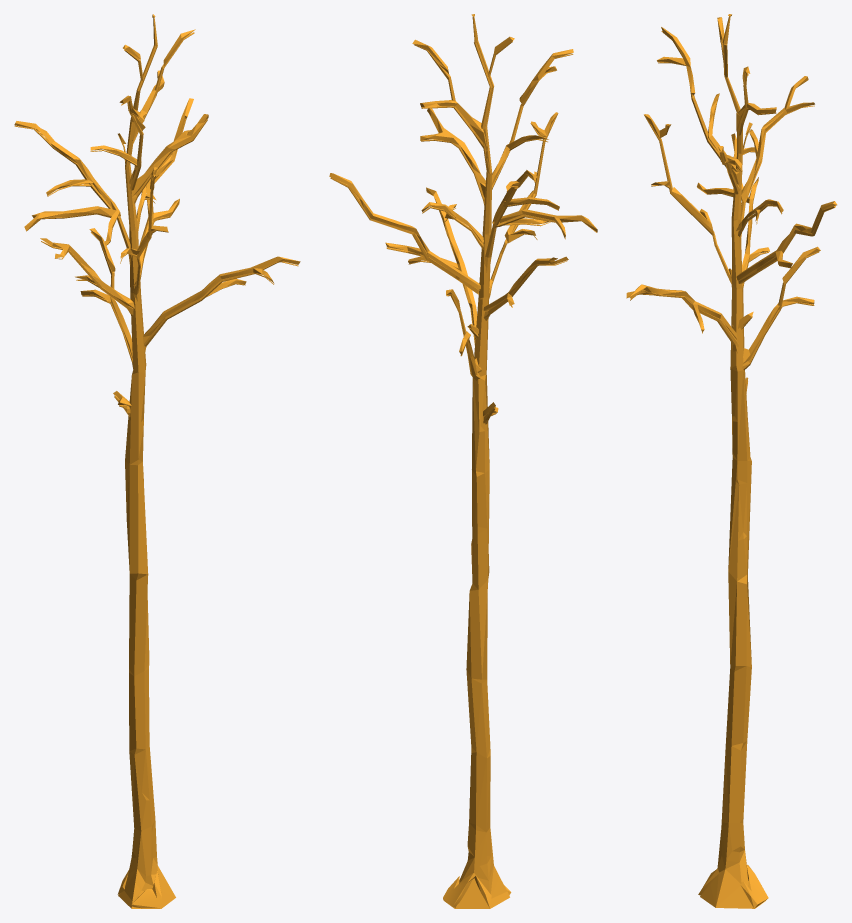
File: SM_Tree_Birch_Mature_A_Bare_Snow.fbx
The picture shows the model from 3 angles, left to right: view 1: azimuth 30°, elevation 25°; view 2: azimuth 150°, elevation 25°; view 3: azimuth 270°, elevation 25°; orthographic projection.
Parts seen in each view (by area): view 1: tree-birch-mature-a-bare-snow; view 2: tree-birch-mature-a-bare-snow; view 3: tree-birch-mature-a-bare-snow.
Part boxes in pixels (box(x1,y1,x2,y2)): tree-birch-mature-a-bare-snow: box(14, 14, 300, 908); tree-birch-mature-a-bare-snow: box(329, 14, 597, 908); tree-birch-mature-a-bare-snow: box(626, 14, 837, 908).
Bounding box in the file's own units: 2.89 × 10.86 × 2.34.
